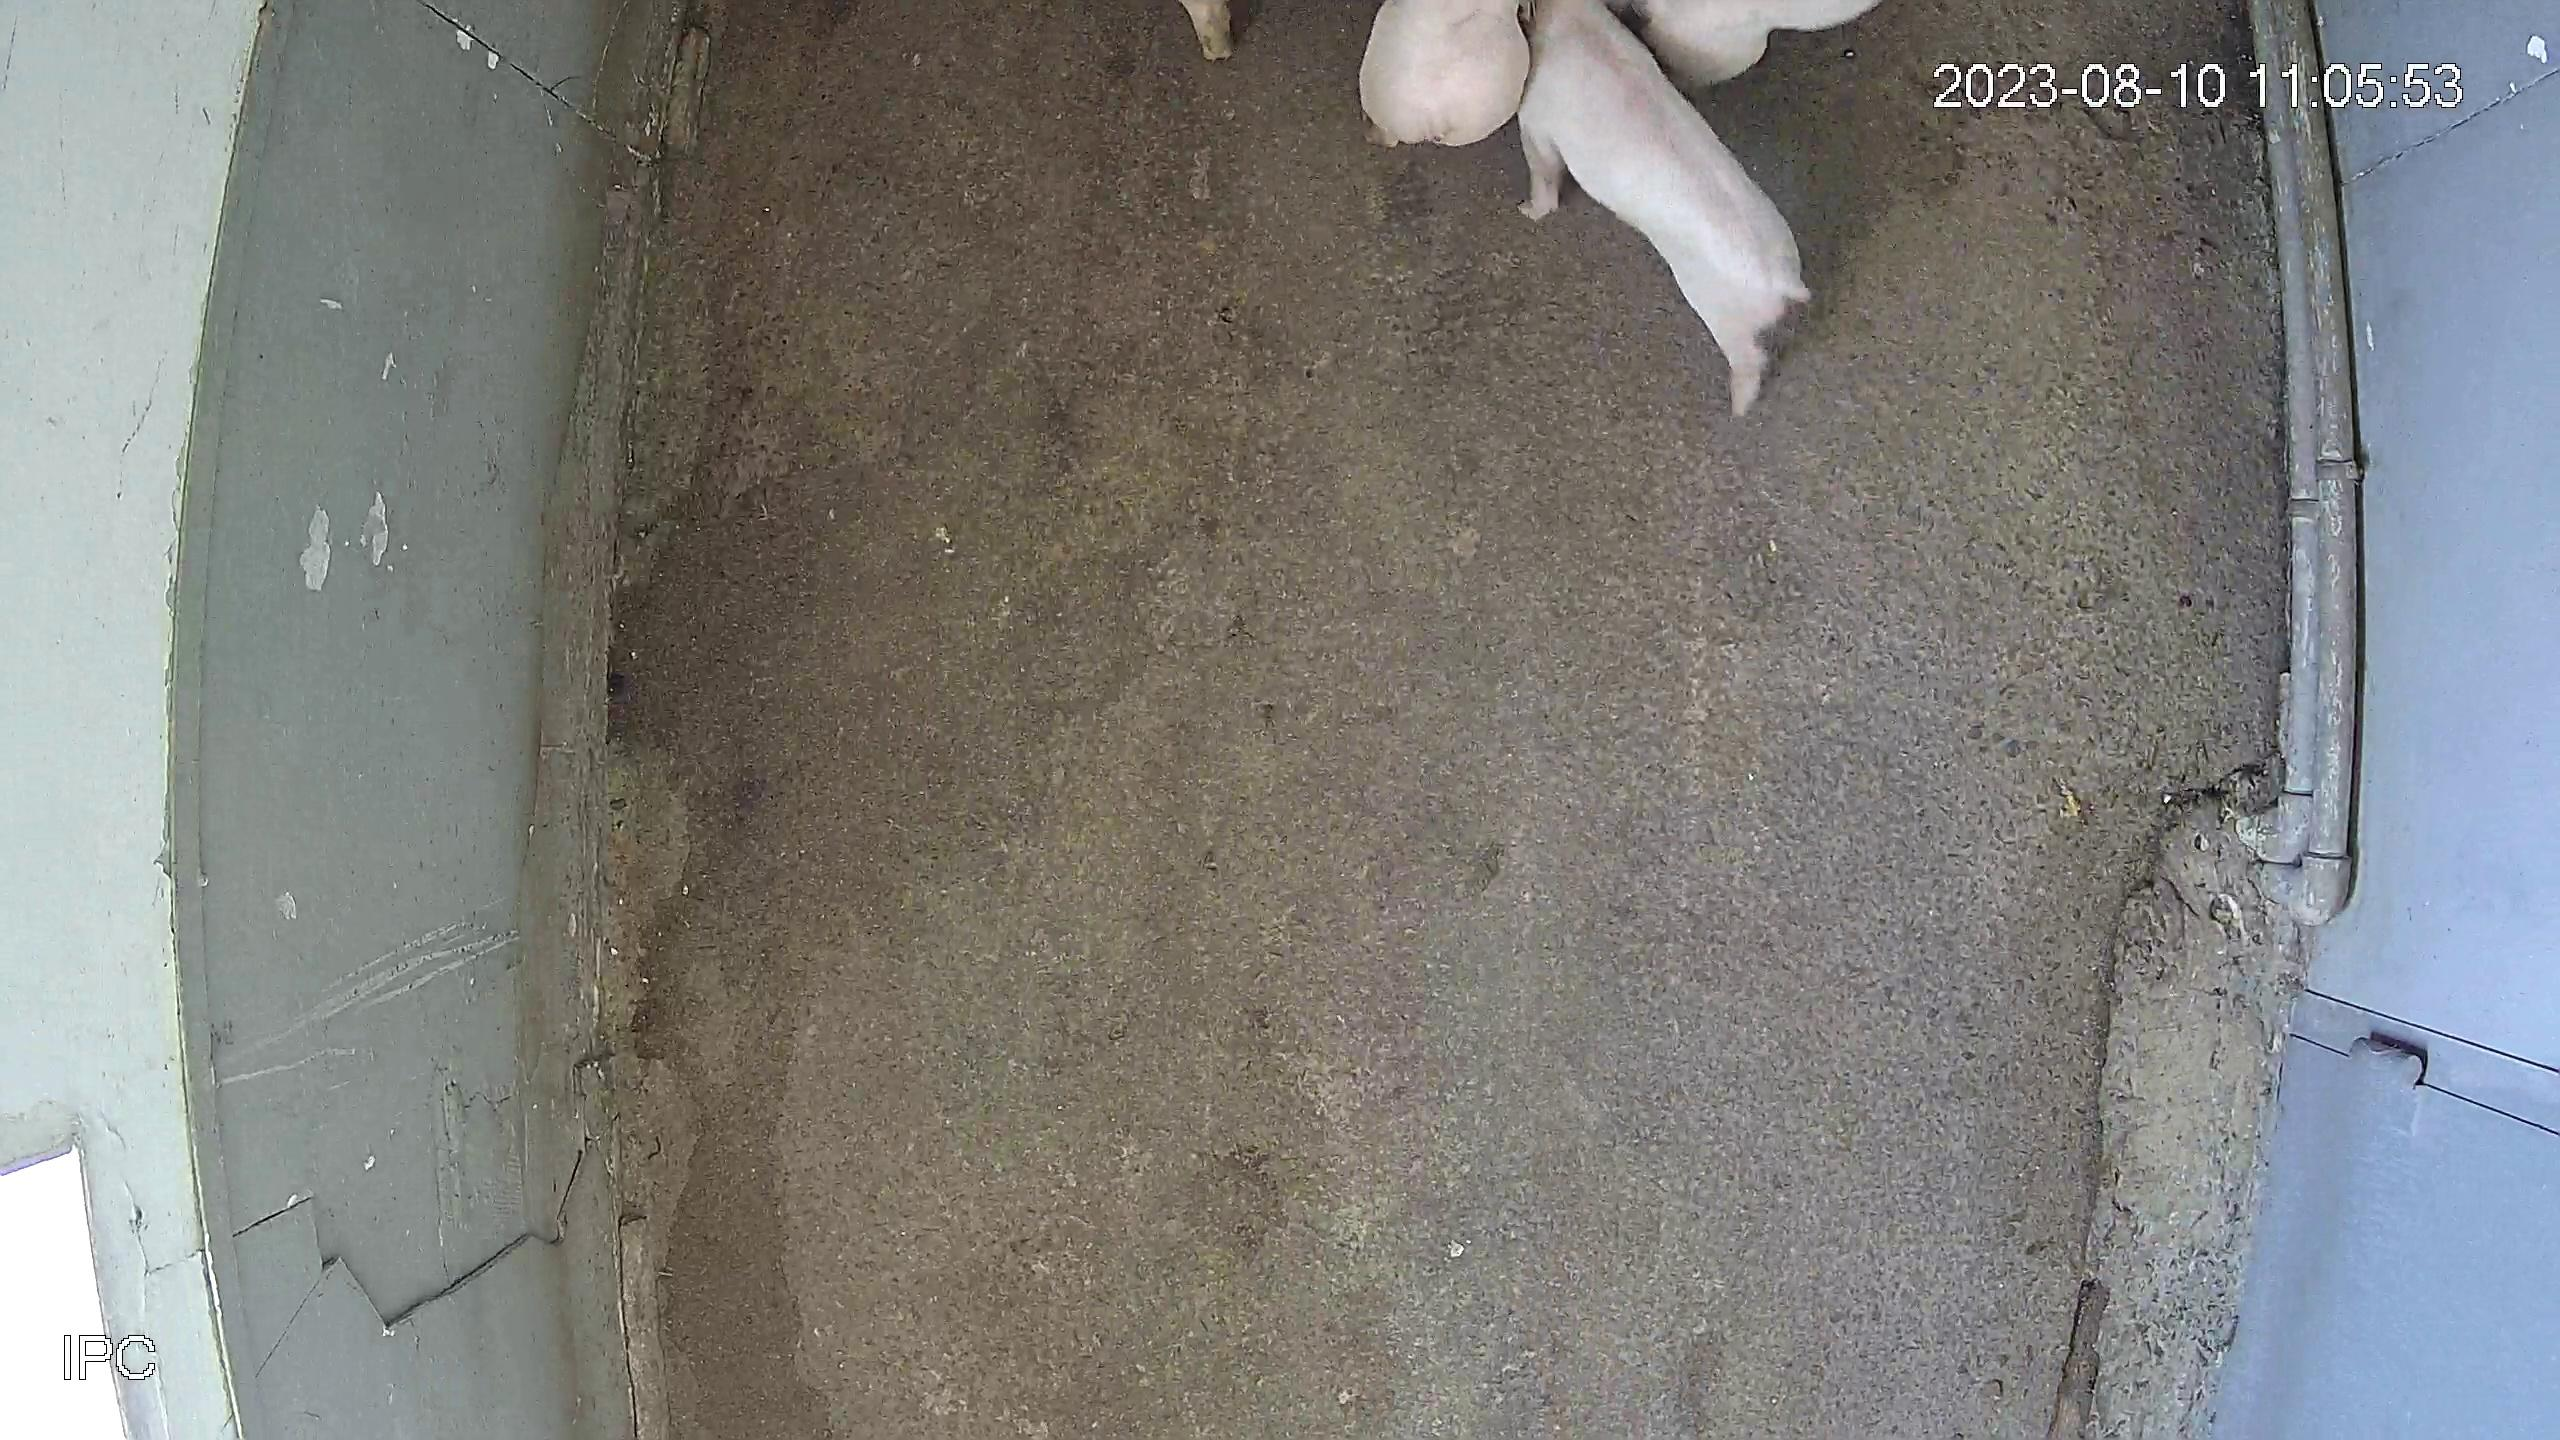Pig: (1517, 0, 1813, 413), (1361, 0, 1531, 142), (1612, 0, 1881, 88)
